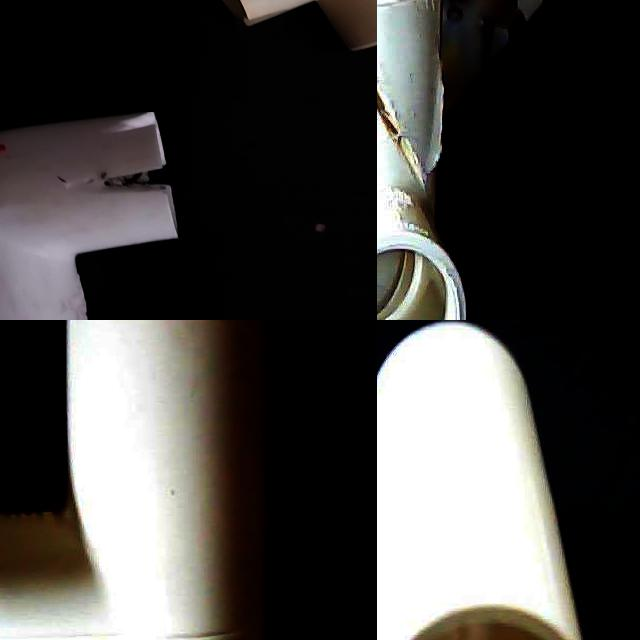Defective: (377, 0, 472, 320), (377, 0, 437, 226), (98, 156, 170, 202)
L Joint: (0, 112, 178, 320), (212, 0, 377, 52)
T Joint: (0, 320, 271, 640), (377, 320, 584, 640), (377, 0, 468, 320)
